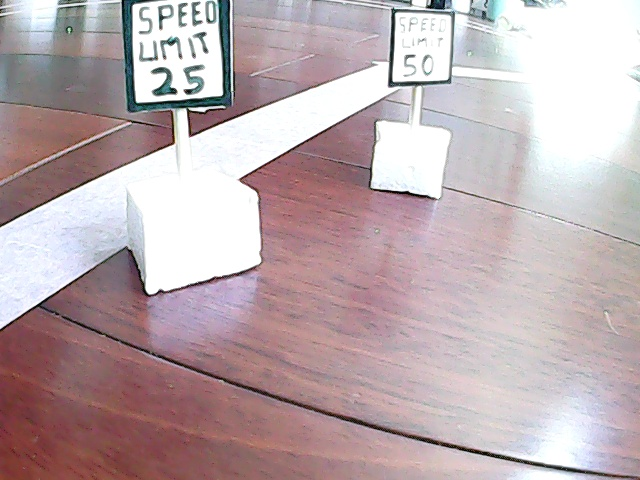speed_25: (113, 1, 275, 285)
speed_50: (367, 6, 475, 204)
